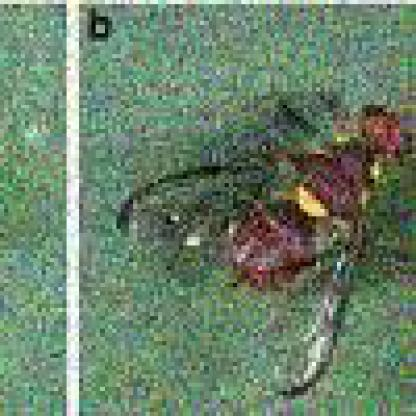fruit fly: (107, 104, 404, 396)
